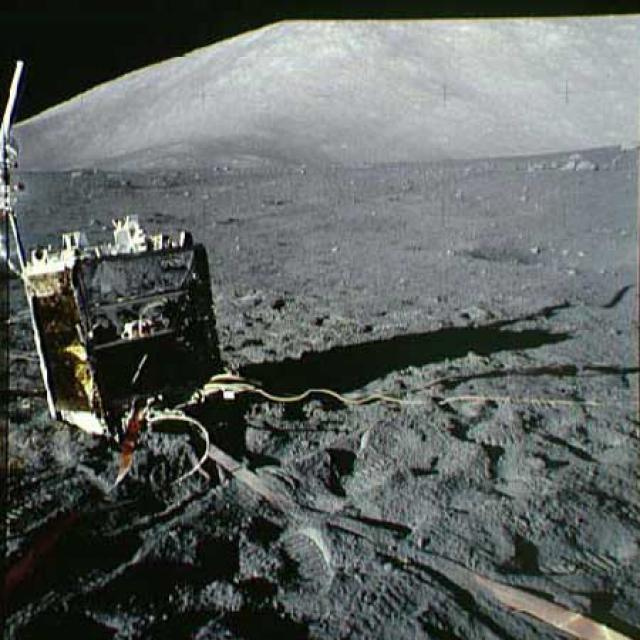artifact: (1, 53, 258, 495)
crater: (456, 240, 584, 274)
rock: (561, 147, 601, 177)
